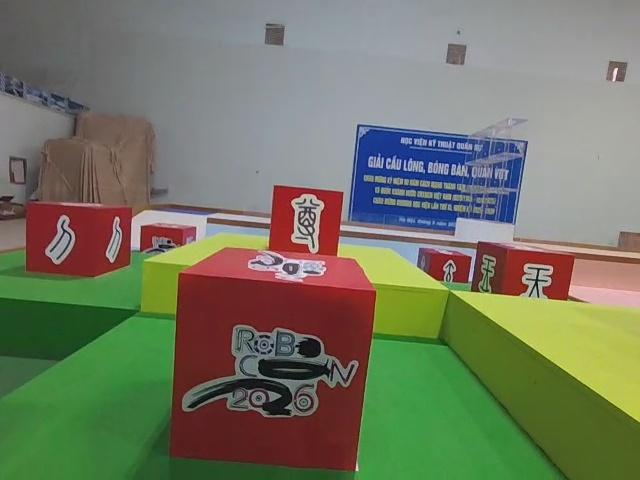R1: (166, 243, 378, 475), (138, 220, 199, 260)
R2 Fake: (266, 181, 347, 263)
R2 Real: (22, 198, 133, 281), (471, 237, 578, 308), (415, 245, 474, 290)
